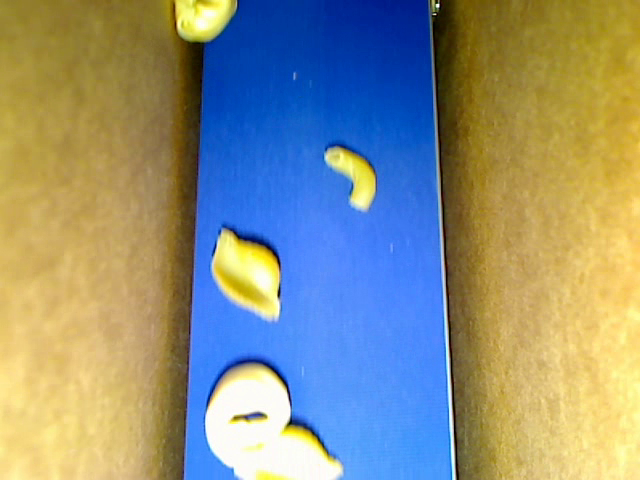elbow: (324, 146, 377, 212)
shell: (211, 227, 280, 320), (234, 424, 343, 479)
tortellini: (204, 362, 292, 468), (174, 1, 236, 43)
